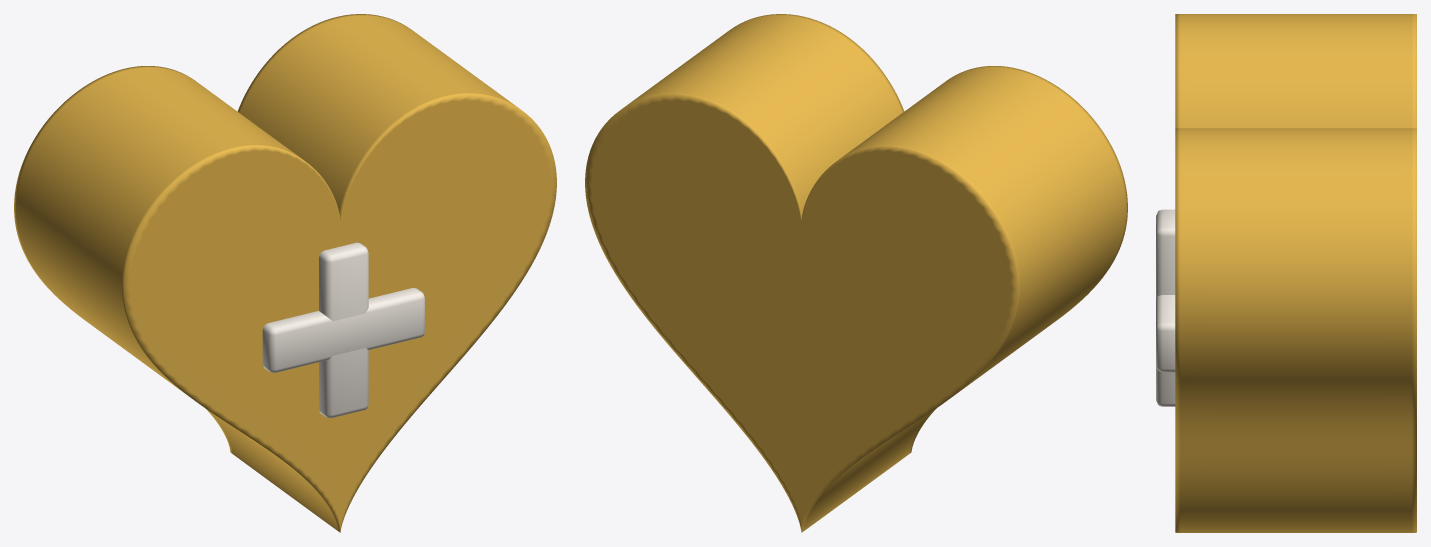
The model's file is saude.glb.
3 renders of one model, left to right at view 1: azimuth 30°, elevation 25°; view 2: azimuth 150°, elevation 25°; view 3: azimuth 270°, elevation 25°, orthographic. The views are drawn at different scales.
Visible parts, largest first — view 1: Coracao, Cruz; view 2: Coracao; view 3: Coracao, Cruz.
Part boxes in pixels (<box>): Coracao: <box>14,14,556,532</box>; Cruz: <box>262,242,424,417</box>; Coracao: <box>585,14,1127,532</box>; Coracao: <box>1175,14,1416,532</box>; Cruz: <box>1156,209,1175,406</box>.
Bounding box in the file's own units: 1 × 0.9044 × 0.4757.
